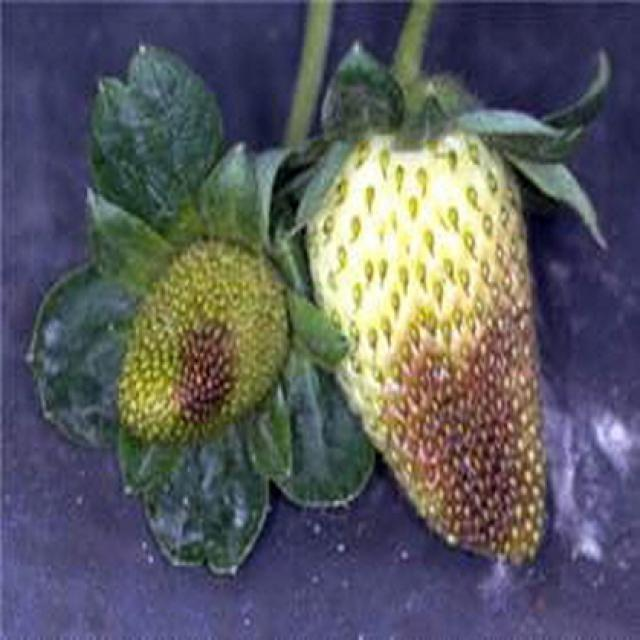Anthracnose Fruit Rot: (287, 130, 550, 568), (115, 241, 291, 448)
